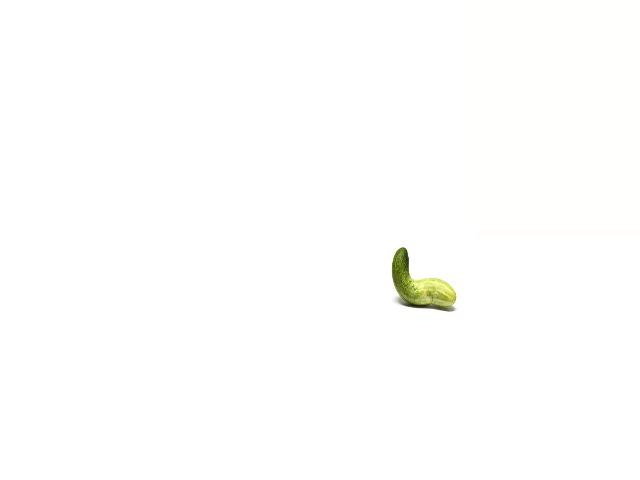cucumber: (391, 247, 455, 307)
